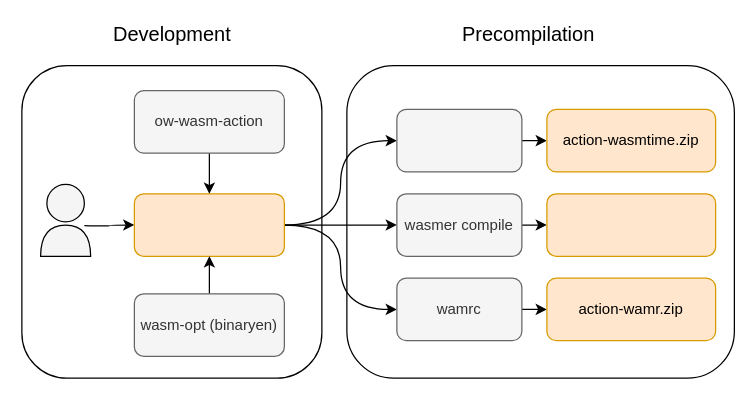
Image size: 756x400. Some labels were removed from this diagram. The shapes that lost their labels are listed below. From the top down, each one's centre as x and y in pixels, then its label:
At [459,140]: "ow-wasmtime-precompiler".
At [208,224]: "action.wasm".
At [631,224]: "action-wasmer.zip".
